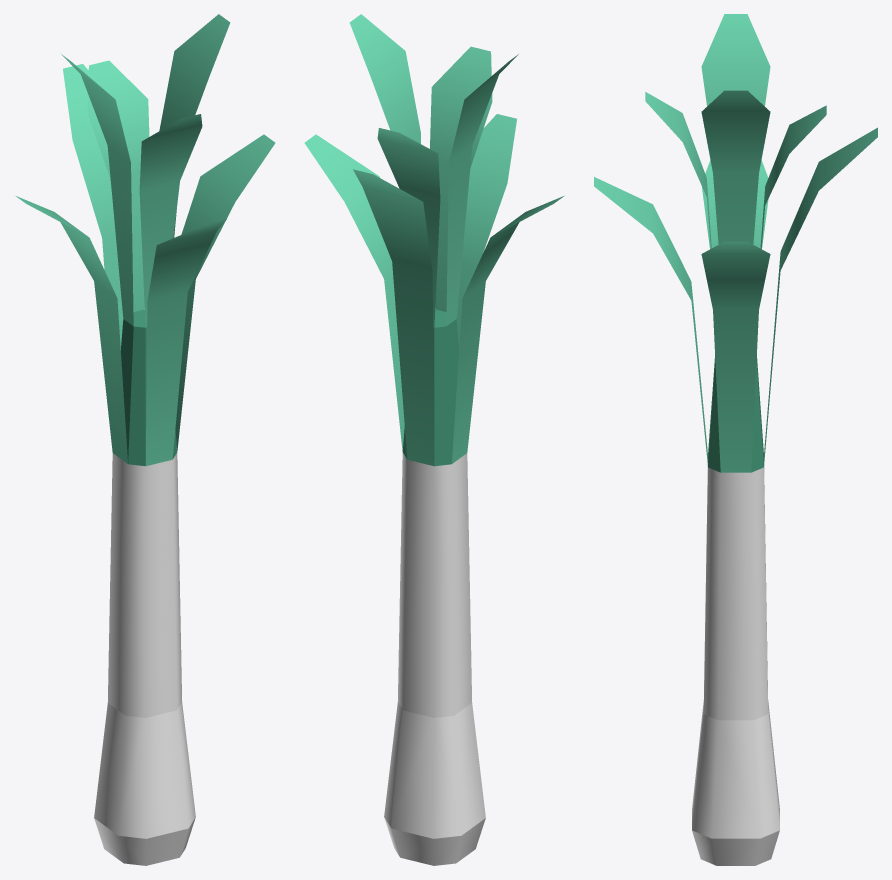
File: leek.GLB
The picture shows the model from 3 angles, left to right: view 1: azimuth 30°, elevation 25°; view 2: azimuth 150°, elevation 25°; view 3: azimuth 270°, elevation 25°; orthographic projection.
Visible parts, largest first — view 1: leek; view 2: leek; view 3: leek.
Part boxes in pixels (x1,y1,x2,y2): leek: [16, 14, 275, 865]; leek: [304, 14, 563, 865]; leek: [594, 14, 877, 865].
Size of the model in its own units: 0.2729 by 0.8474 by 0.2729.
